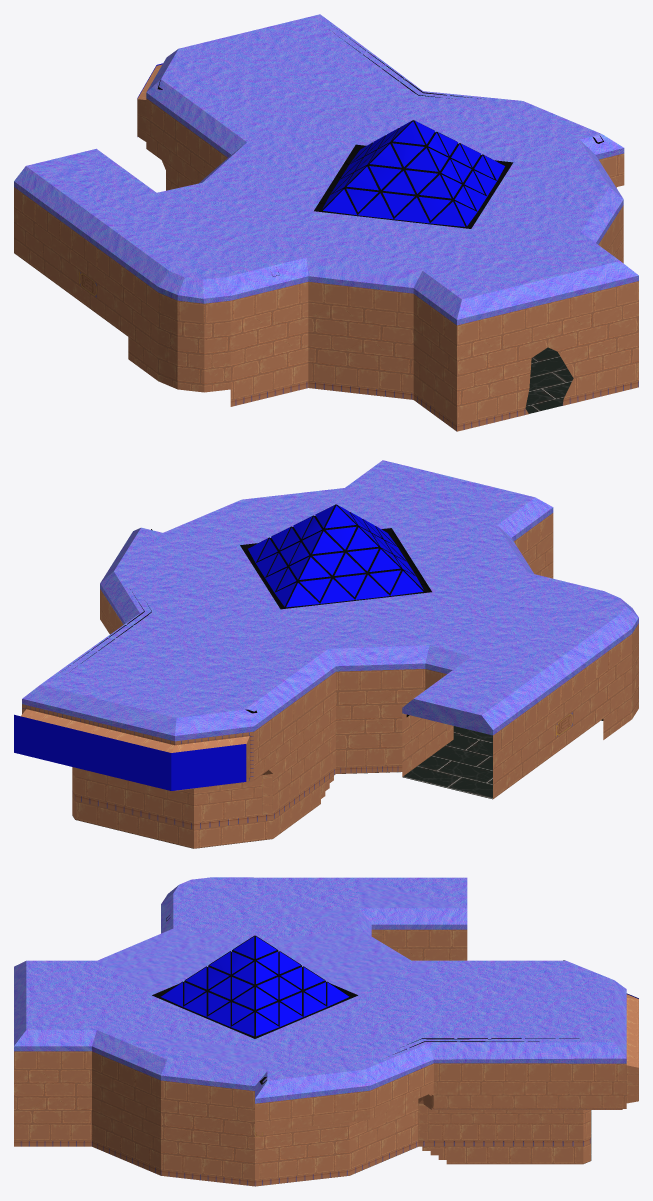
The picture shows the model from 3 angles, top to bottom: view 1: azimuth 30°, elevation 25°; view 2: azimuth 150°, elevation 25°; view 3: azimuth 270°, elevation 25°; orthographic projection. The views are drawn at different scales.
Visible parts, largest first — view 1: SM_Roof_001, SM_LDWall_001, SM_RoofAdd_001, SM_LdGround_001; view 2: SM_Roof_001, SM_LDWall_001, SM_RoofAdd_001, SM_LdGround_001; view 3: SM_Roof_001, SM_LDWall_001, SM_RoofAdd_001.
Part boxes in pixels (<box>): SM_Roof_001: <box>14,14,638,325</box>; SM_LDWall_001: <box>14,64,638,431</box>; SM_RoofAdd_001: <box>137,32,603,276</box>; SM_LdGround_001: <box>525,347,573,413</box>; SM_Roof_001: <box>22,460,638,741</box>; SM_LDWall_001: <box>21,513,638,848</box>; SM_RoofAdd_001: <box>14,504,431,790</box>; SM_LdGround_001: <box>72,719,603,848</box>; SM_Roof_001: <box>14,877,626,1103</box>; SM_LDWall_001: <box>14,929,638,1186</box>; SM_RoofAdd_001: <box>152,915,638,1084</box>.
Size of the model in its own units: 3133 by 1278 by 3844.
